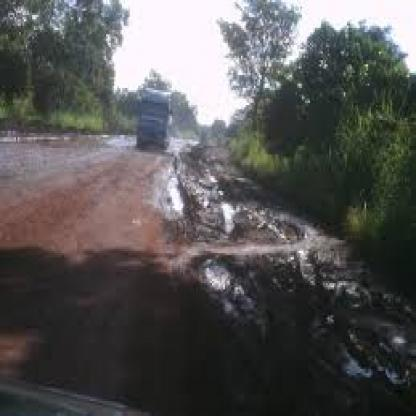car: (127, 73, 176, 159)
